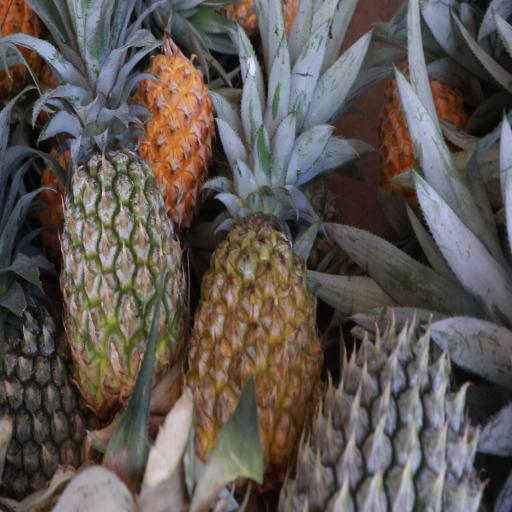------------------------------: (62, 152, 182, 406)
Pineapple - v8 v1: (191, 180, 318, 472), (68, 42, 214, 188), (378, 76, 459, 182)
